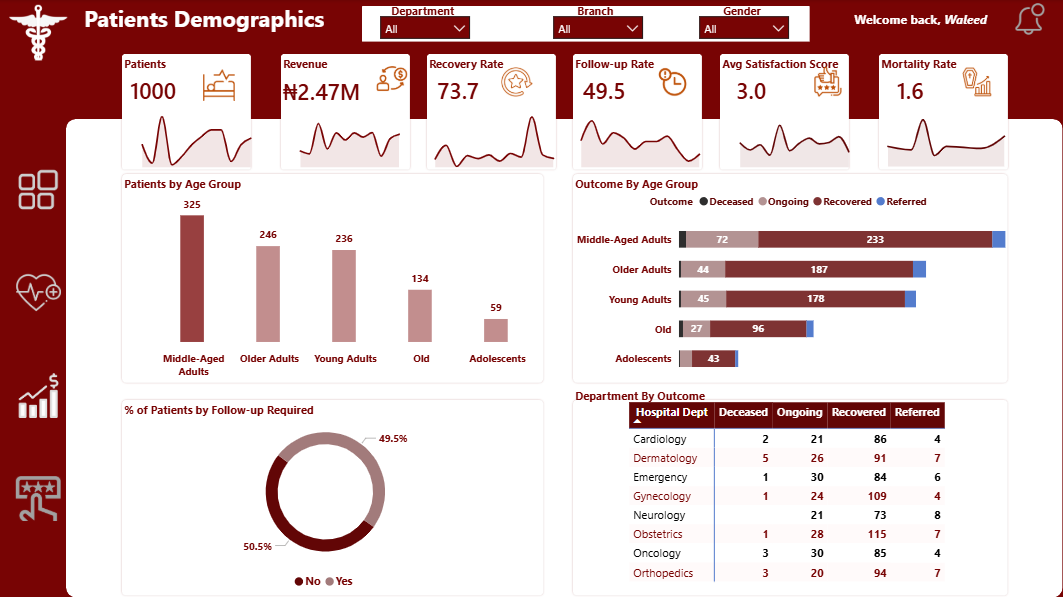

What the dashboard file says about the page in this screenshot:
{"tool":"powerbi","page":{"name":"Patient Demographics","canvas":[1280,720],"ordinal":4},"visuals":[{"type":"shape","box":[80,144,1200,576],"z":0},{"type":"shape","box":[144,64,160,144],"z":1000},{"type":"shape","box":[433,6,544,48],"z":2000},{"type":"shape","box":[144,208,512,256],"z":3000},{"type":"shape","box":[688,480,528,240],"z":4000},{"type":"shape","box":[688,208,528,256],"z":5000},{"type":"shape","box":[144,480,512,240],"z":6000},{"type":"columnChart","fields":{"Category":["healthcare_dataset_1000_rows.Age Group"],"Y":["_Measures.Total Patients"]},"box":[144,224,512,240],"z":7000},{"type":"barChart","fields":{"Y":["_Measures.Total Patients"],"Series":["healthcare_dataset_1000_rows.Outcome"],"Category":["healthcare_dataset_1000_rows.Age Group"]},"box":[688,224,528,240],"z":8000},{"type":"slicer","fields":{"Values":["DateTable.Month Name"]},"box":[448,10.8,128,48],"z":9000},{"type":"slicer","fields":{"Values":["healthcare_dataset_1000_rows.Insurance Type"]},"box":[656,10.8,128,48],"z":10000},{"type":"slicer","fields":{"Values":["healthcare_dataset_1000_rows.Age Group"]},"box":[832,10.8,128,48],"z":11000},{"type":"textbox","box":[865.5,0,64,32],"z":12000},{"type":"textbox","box":[689.5,0,64,32],"z":13000},{"type":"textbox","box":[465.5,0,96,32],"z":14000},{"type":"textbox","box":[419,64,64,32],"z":15000},{"type":"card","fields":{"Values":["_Measures.Total Patients"]},"box":[144,80,80,64],"z":16000},{"type":"lineChart","fields":{"Y":["_Measures.Total Patients"],"Category":["DateTable.Month Number"]},"box":[144,128,208,80],"z":17000},{"type":"textbox","box":[144,64,64,32],"z":18000},{"type":"donutChart","fields":{"Y":["_Measures.Total Patients"],"Category":["healthcare_dataset_1000_rows.Follow Up Required"]},"box":[176,496,432,224],"z":19000},{"type":"pivotTable","fields":{"Rows":["healthcare_dataset_1000_rows.Hospital Department"],"Columns":["healthcare_dataset_1000_rows.Outcome"],"Values":["Count(healthcare_dataset_1000_rows.Visit ID)"]},"box":[752,480,400,240],"z":20000},{"type":"textbox","box":[144,208,160,32],"z":21000},{"type":"textbox","box":[688,208,208,32],"z":22000},{"type":"textbox","box":[144,480,240,32],"z":23000},{"type":"textbox","box":[688,464,208,32],"z":24000},{"type":"shape","box":[336,64,160,144],"z":25000},{"type":"lineChart","fields":{"Category":["DateTable.Month Number"],"Y":["_Measures.Total Revenue"]},"box":[336,128,192,80],"z":26000},{"type":"card","fields":{"Values":["_Measures.Total Revenue"]},"box":[331.6,96,112,32],"z":27000},{"type":"shape","box":[512,64,160,144],"z":28000},{"type":"textbox","box":[512,64,112,32],"z":29000},{"type":"lineChart","fields":{"Category":["DateTable.Month Number"],"Y":["_Measures.Recovery Rate %"]},"box":[496,128,224,80],"z":30000},{"type":"card","fields":{"Values":["_Measures.Recovery Rate %"]},"box":[512,80,80,64],"z":31000},{"type":"textbox","box":[336,64,64,32],"z":32000},{"type":"shape","box":[688,64,160,144],"z":33000},{"type":"card","fields":{"Values":["_Measures.Follow-Up Rate %"]},"box":[688,80,80,64],"z":34000},{"type":"textbox","box":[688,64,112,32],"z":35000},{"type":"lineChart","fields":{"Category":["DateTable.Month Number"],"Y":["_Measures.Follow-Up Rate %"]},"box":[672,128,224,80],"z":36000},{"type":"shape","box":[864,64,160,144],"z":37000},{"type":"textbox","box":[864,64,160,32],"z":38000},{"type":"card","fields":{"Values":["_Measures.Avg Satisfaction Score"]},"box":[864,80,80,64],"z":39000},{"type":"lineChart","fields":{"Category":["DateTable.Month Number"],"Y":["_Measures.Avg Satisfaction Score"]},"box":[864,128,208,80],"z":40000},{"type":"shape","box":[1056,64,160,144],"z":41000},{"type":"textbox","box":[1056,64,112,32],"z":42000},{"type":"card","fields":{"Values":["_Measures.Mortality Rate %"]},"box":[1056,80,80,64],"z":43000},{"type":"lineChart","fields":{"Category":["DateTable.Month Number"],"Y":["_Measures.Mortality Rate %"]},"box":[1040,128,240,80],"z":44000},{"type":"textbox","box":[96,0,304,48],"z":45000},{"type":"image","box":[1152,75.8,48,48],"z":46000},{"type":"image","box":[972.8,75.8,48,48],"z":47000},{"type":"image","box":[598.4,75.8,48,48],"z":48000},{"type":"image","box":[240,80,48,48],"z":49000},{"type":"image","box":[448,64,48,64],"z":50000},{"type":"image","box":[777.6,75.8,64,48],"z":51000},{"type":"image","box":[6.4,198,80,64],"z":52000},{"type":"image","box":[14.4,322,64,64],"z":53000},{"type":"image","box":[14.4,446,64,64],"z":54000},{"type":"image","box":[6.4,570,80,64],"z":55000},{"type":"image","box":[6.4,0,80,80],"z":56000},{"type":"image","box":[1216,0,48,48],"z":57000},{"type":"textbox","box":[1024,10,176,32],"z":58000}]}

Visuals, with their boxes on the page's 1280x720 design canvas (x1, y1, x2, y2). These are canvas units, not pixel positions in the 1063x597 screenshot, which may show the page scaled, cropped or inside an application window:
shape: (80, 144, 1280, 720)
shape: (144, 64, 304, 208)
shape: (433, 6, 977, 54)
shape: (144, 208, 656, 464)
shape: (688, 480, 1216, 720)
shape: (688, 208, 1216, 464)
shape: (144, 480, 656, 720)
columnChart - healthcare_dataset_1000_rows.Age Group x _Measures.Total Patients: (144, 224, 656, 464)
barChart - _Measures.Total Patients x healthcare_dataset_1000_rows.Outcome: (688, 224, 1216, 464)
slicer - DateTable.Month Name: (448, 11, 576, 59)
slicer - healthcare_dataset_1000_rows.Insurance Type: (656, 11, 784, 59)
slicer - healthcare_dataset_1000_rows.Age Group: (832, 11, 960, 59)
textbox: (866, 0, 930, 32)
textbox: (690, 0, 754, 32)
textbox: (466, 0, 562, 32)
textbox: (419, 64, 483, 96)
card - _Measures.Total Patients: (144, 80, 224, 144)
lineChart - _Measures.Total Patients x DateTable.Month Number: (144, 128, 352, 208)
textbox: (144, 64, 208, 96)
donutChart - _Measures.Total Patients x healthcare_dataset_1000_rows.Follow Up Required: (176, 496, 608, 720)
pivotTable - healthcare_dataset_1000_rows.Hospital Department x healthcare_dataset_1000_rows.Outcome: (752, 480, 1152, 720)
textbox: (144, 208, 304, 240)
textbox: (688, 208, 896, 240)
textbox: (144, 480, 384, 512)
textbox: (688, 464, 896, 496)
shape: (336, 64, 496, 208)
lineChart - DateTable.Month Number x _Measures.Total Revenue: (336, 128, 528, 208)
card - _Measures.Total Revenue: (332, 96, 444, 128)
shape: (512, 64, 672, 208)
textbox: (512, 64, 624, 96)
lineChart - DateTable.Month Number x _Measures.Recovery Rate %: (496, 128, 720, 208)
card - _Measures.Recovery Rate %: (512, 80, 592, 144)
textbox: (336, 64, 400, 96)
shape: (688, 64, 848, 208)
card - _Measures.Follow-Up Rate %: (688, 80, 768, 144)
textbox: (688, 64, 800, 96)
lineChart - DateTable.Month Number x _Measures.Follow-Up Rate %: (672, 128, 896, 208)
shape: (864, 64, 1024, 208)
textbox: (864, 64, 1024, 96)
card - _Measures.Avg Satisfaction Score: (864, 80, 944, 144)
lineChart - DateTable.Month Number x _Measures.Avg Satisfaction Score: (864, 128, 1072, 208)
shape: (1056, 64, 1216, 208)
textbox: (1056, 64, 1168, 96)
card - _Measures.Mortality Rate %: (1056, 80, 1136, 144)
lineChart - DateTable.Month Number x _Measures.Mortality Rate %: (1040, 128, 1280, 208)
textbox: (96, 0, 400, 48)
image: (1152, 76, 1200, 124)
image: (973, 76, 1021, 124)
image: (598, 76, 646, 124)
image: (240, 80, 288, 128)
image: (448, 64, 496, 128)
image: (778, 76, 842, 124)
image: (6, 198, 86, 262)
image: (14, 322, 78, 386)
image: (14, 446, 78, 510)
image: (6, 570, 86, 634)
image: (6, 0, 86, 80)
image: (1216, 0, 1264, 48)
textbox: (1024, 10, 1200, 42)
